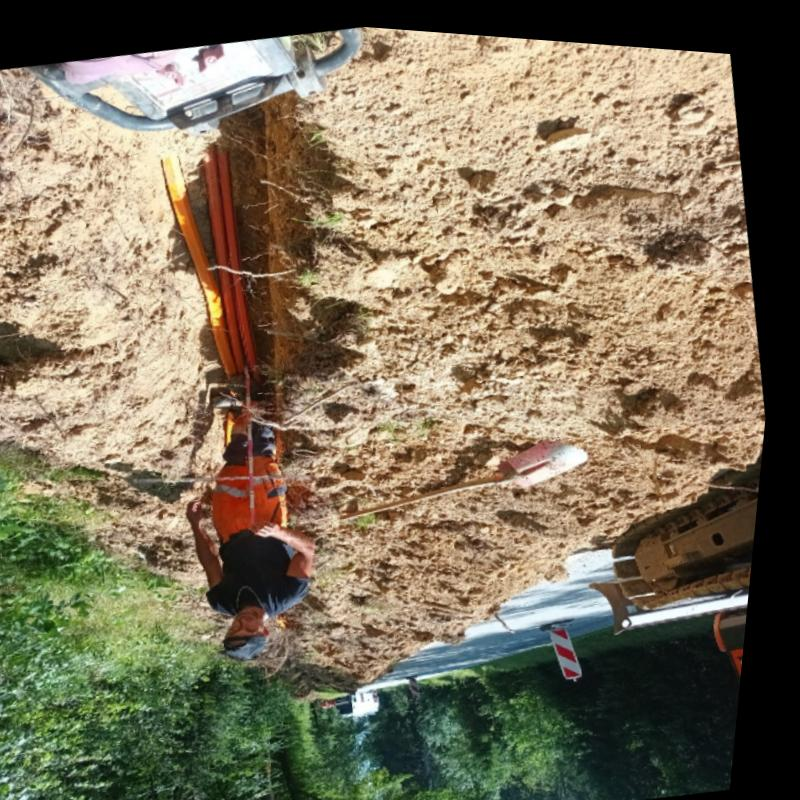Orang-Speednetrohrchen: (167, 144, 268, 371)
